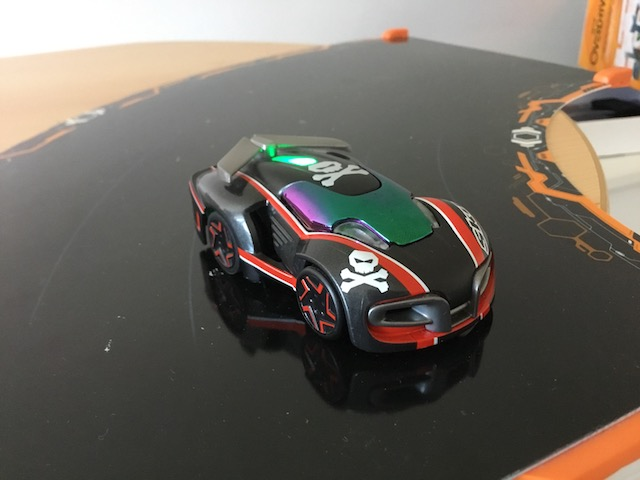car-red: (183, 129, 499, 361)
